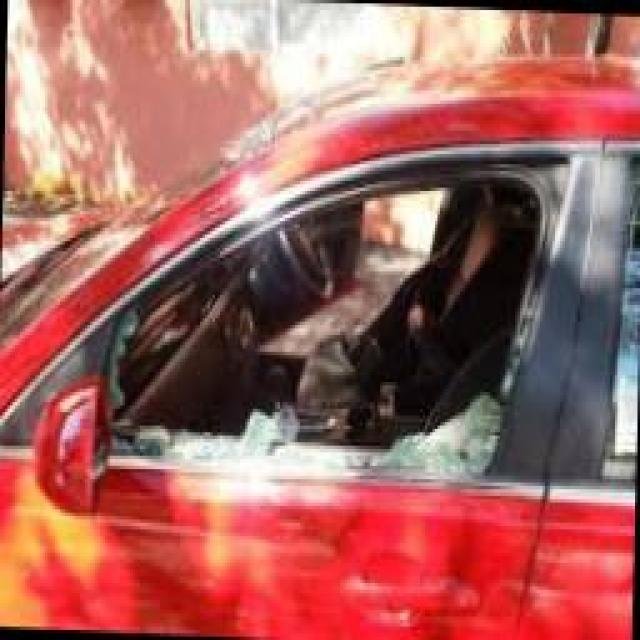Door: (20, 104, 615, 573)
